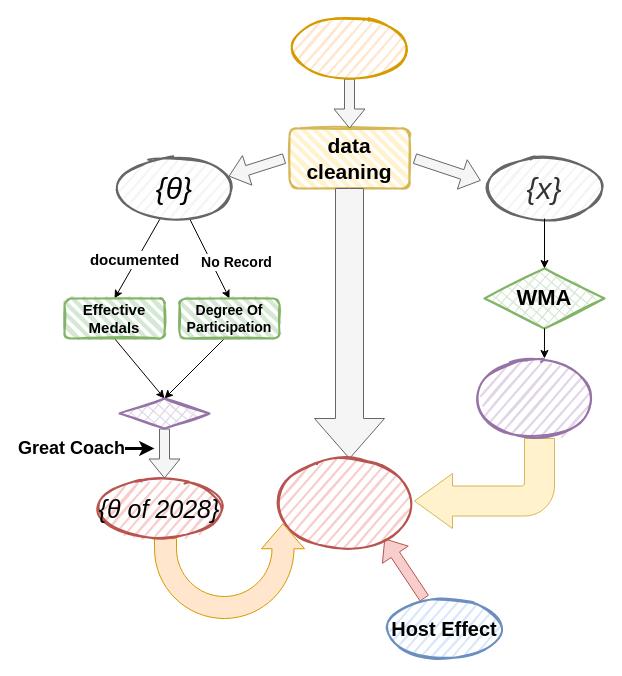
Image size: 622x676. Some labels were removed from this diagram. The shapes that lost their labels are listed below. From the top down, each one's centre as x and y in pixels, then its label:
At point (349, 48): "raw data".
At point (164, 413): "ARIMA".
At point (534, 398): "{x of 2028}".
At point (344, 503): "Y = Σ(θ*x)+ε".
